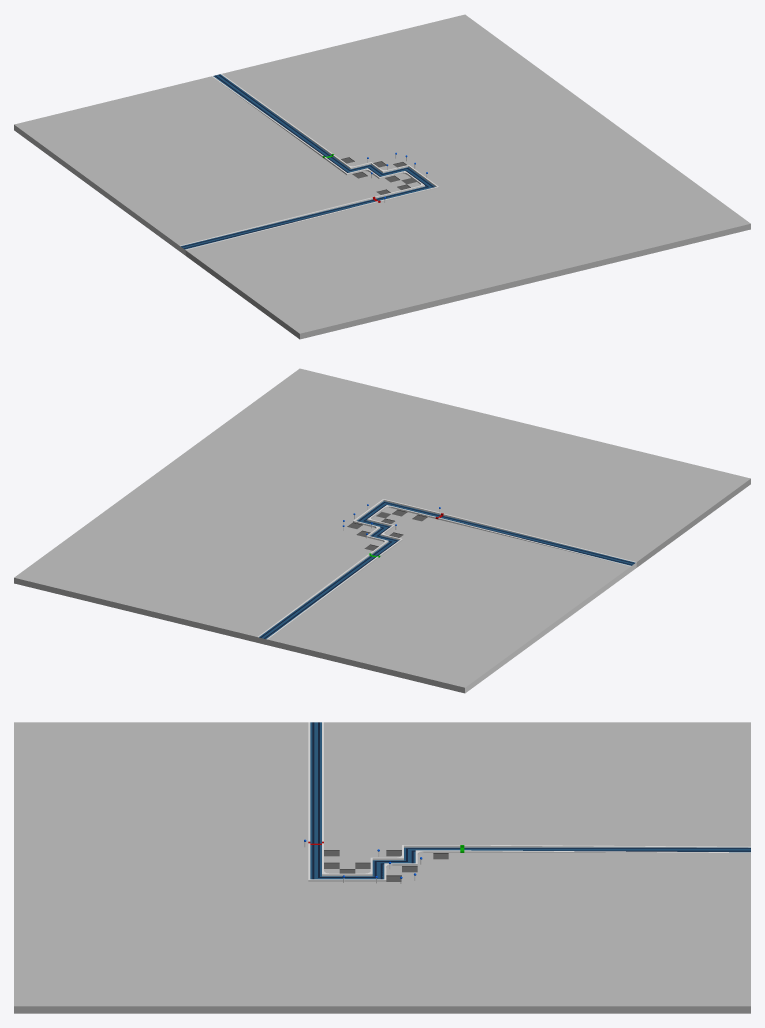
The model's file is Stage4.fbx.
The picture shows the model from 3 angles, top to bottom: view 1: azimuth 30°, elevation 25°; view 2: azimuth 150°, elevation 25°; view 3: azimuth 270°, elevation 25°; orthographic projection. The views are drawn at different scales.
Parts seen in each view (by area): view 1: Cube.001; view 2: Cube.001; view 3: Cube.001.
Part boxes in pixels (x1=…): Cube.001: x1=14, y1=14, x2=750, y2=339; Cube.001: x1=14, y1=368, x2=750, y2=693; Cube.001: x1=14, y1=722, x2=750, y2=1013.
Size of the model in its own units: 16400 by 399 by 18000.
